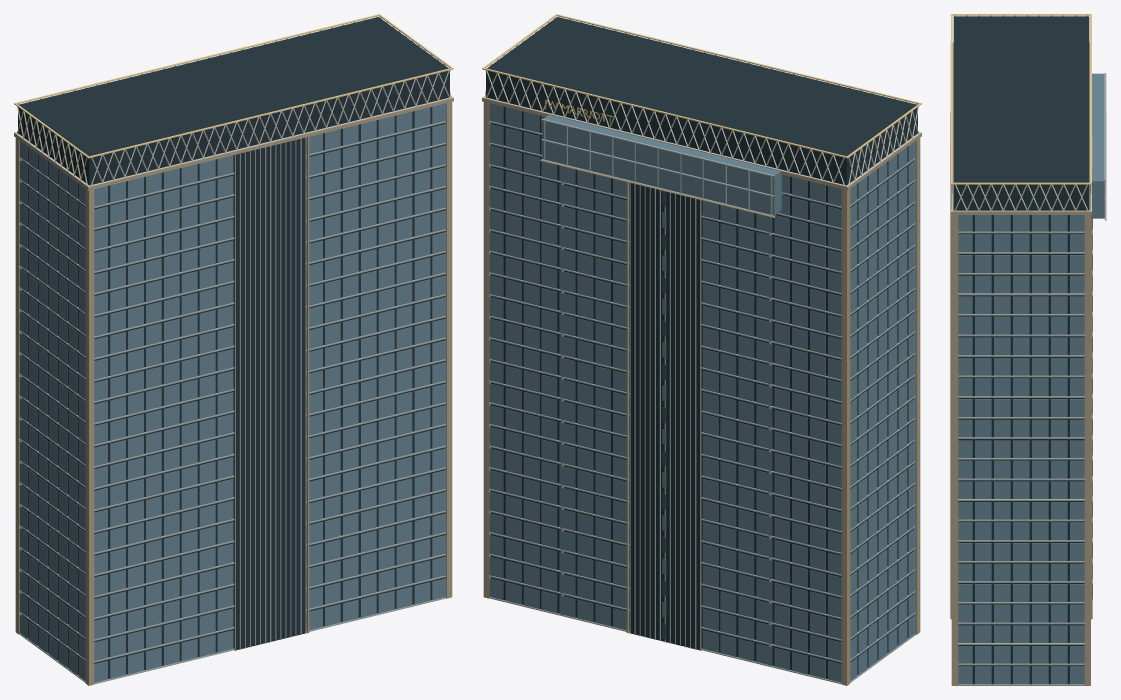
The model's file is KOL_T1_JW__Hotel_Tower.fbx.
3 renders of one model, left to right at view 1: azimuth 30°, elevation 25°; view 2: azimuth 150°, elevation 25°; view 3: azimuth 270°, elevation 25°, orthographic. The views are drawn at different scales.
Parts seen in each view (by area): view 1: KOL_T1_JW__Hotel_Tower__KOL_T1_Graphite, KOL_T1_JW__Hotel_Tower__KOL_T1_GlassBlue.001, KOL_T1_JW__Hotel_Tower__KOL_T1_GlassBlue, KOL_T1_JW__Hotel_Tower__KOL_T1_GlassBlue.002, KOL_T1_JW__Hotel_Tower__KOL_T1_Silver, KOL_T1_JW__Hotel_Tower__KOL_T1_WarmWindow, KOL_T1_JW__Hotel_Tower__KOL_T1_Stone, KOL_T1_JW__Hotel_Tower__KOL_T1_Silver.001, KOL_T1_JW__Hotel_Tower__KOL_T1_Pearl, KOL_T1_JW__Hotel_Tower__KOL_T1_Accent; view 2: KOL_T1_JW__Hotel_Tower__KOL_T1_Graphite, KOL_T1_JW__Hotel_Tower__KOL_T1_GlassBlue, KOL_T1_JW__Hotel_Tower__KOL_T1_GlassBlue.001, KOL_T1_JW__Hotel_Tower__KOL_T1_GlassBlue.002, KOL_T1_JW__Hotel_Tower__KOL_T1_Silver, KOL_T1_JW__Hotel_Tower__KOL_T1_WarmWindow, KOL_T1_JW__Hotel_Tower__KOL_T1_Stone, KOL_T1_JW__Hotel_Tower__KOL_T1_Silver.001, KOL_T1_JW__Hotel_Tower__KOL_T1_Pearl, KOL_T1_JW__Hotel_Tower__KOL_T1_Accent, KOL_T1_JW__Hotel_Tower__KOL_T1_Glass; view 3: KOL_T1_JW__Hotel_Tower__KOL_T1_Graphite, KOL_T1_JW__Hotel_Tower__KOL_T1_GlassBlue.001, KOL_T1_JW__Hotel_Tower__KOL_T1_GlassBlue, KOL_T1_JW__Hotel_Tower__KOL_T1_GlassBlue.002, KOL_T1_JW__Hotel_Tower__KOL_T1_Stone, KOL_T1_JW__Hotel_Tower__KOL_T1_Silver, KOL_T1_JW__Hotel_Tower__KOL_T1_Silver.001, KOL_T1_JW__Hotel_Tower__KOL_T1_Pearl, KOL_T1_JW__Hotel_Tower__KOL_T1_Accent.
Part boxes in pixels (left/top/right/bottom): KOL_T1_JW__Hotel_Tower__KOL_T1_Graphite: left=18, top=17, right=449, bottom=678; KOL_T1_JW__Hotel_Tower__KOL_T1_GlassBlue.001: left=19, top=210, right=446, bottom=487; KOL_T1_JW__Hotel_Tower__KOL_T1_GlassBlue: left=19, top=405, right=446, bottom=682; KOL_T1_JW__Hotel_Tower__KOL_T1_GlassBlue.002: left=19, top=103, right=446, bottom=293; KOL_T1_JW__Hotel_Tower__KOL_T1_Silver: left=20, top=294, right=446, bottom=684; KOL_T1_JW__Hotel_Tower__KOL_T1_WarmWindow: left=128, top=107, right=430, bottom=661; KOL_T1_JW__Hotel_Tower__KOL_T1_Stone: left=14, top=97, right=453, bottom=685; KOL_T1_JW__Hotel_Tower__KOL_T1_Silver.001: left=20, top=121, right=446, bottom=359; KOL_T1_JW__Hotel_Tower__KOL_T1_Pearl: left=14, top=16, right=453, bottom=187; KOL_T1_JW__Hotel_Tower__KOL_T1_Accent: left=14, top=14, right=453, bottom=158; KOL_T1_JW__Hotel_Tower__KOL_T1_Graphite: left=486, top=17, right=917, bottom=678; KOL_T1_JW__Hotel_Tower__KOL_T1_GlassBlue: left=489, top=405, right=916, bottom=680; KOL_T1_JW__Hotel_Tower__KOL_T1_GlassBlue.001: left=489, top=197, right=916, bottom=486; KOL_T1_JW__Hotel_Tower__KOL_T1_GlassBlue.002: left=489, top=103, right=916, bottom=291; KOL_T1_JW__Hotel_Tower__KOL_T1_Silver: left=489, top=181, right=915, bottom=684; KOL_T1_JW__Hotel_Tower__KOL_T1_WarmWindow: left=541, top=136, right=841, bottom=682; KOL_T1_JW__Hotel_Tower__KOL_T1_Stone: left=482, top=97, right=921, bottom=685; KOL_T1_JW__Hotel_Tower__KOL_T1_Silver.001: left=489, top=119, right=915, bottom=359; KOL_T1_JW__Hotel_Tower__KOL_T1_Pearl: left=482, top=16, right=921, bottom=187; KOL_T1_JW__Hotel_Tower__KOL_T1_Accent: left=482, top=14, right=921, bottom=217; KOL_T1_JW__Hotel_Tower__KOL_T1_Glass: left=662, top=191, right=666, bottom=639; KOL_T1_JW__Hotel_Tower__KOL_T1_Graphite: left=953, top=16, right=1089, bottom=684; KOL_T1_JW__Hotel_Tower__KOL_T1_GlassBlue.001: left=958, top=316, right=1084, bottom=498; KOL_T1_JW__Hotel_Tower__KOL_T1_GlassBlue: left=958, top=502, right=1084, bottom=684; KOL_T1_JW__Hotel_Tower__KOL_T1_GlassBlue.002: left=958, top=73, right=1104, bottom=313; KOL_T1_JW__Hotel_Tower__KOL_T1_Stone: left=950, top=43, right=1092, bottom=685; KOL_T1_JW__Hotel_Tower__KOL_T1_Silver: left=958, top=396, right=1084, bottom=685; KOL_T1_JW__Hotel_Tower__KOL_T1_Silver.001: left=950, top=73, right=1106, bottom=377; KOL_T1_JW__Hotel_Tower__KOL_T1_Pearl: left=950, top=15, right=1091, bottom=212; KOL_T1_JW__Hotel_Tower__KOL_T1_Accent: left=950, top=14, right=1106, bottom=220.
Size of the model in its own units: 145 by 201 by 56.53.
